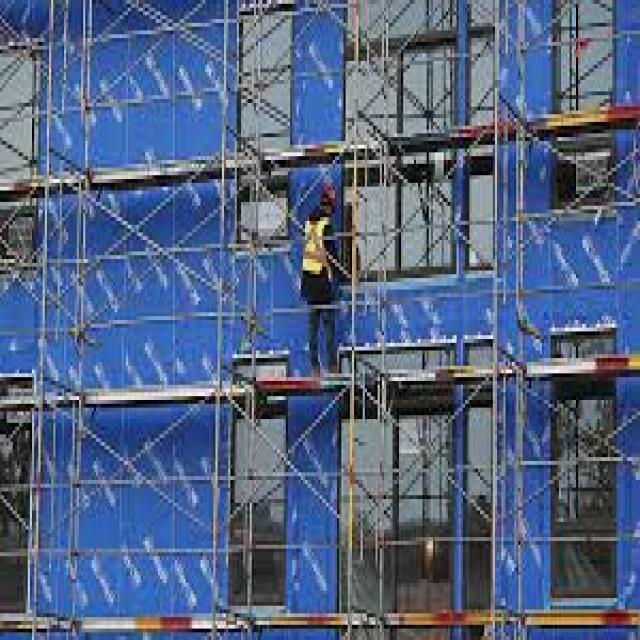reflective_jacket: (290, 209, 335, 285)
safety_helmet: (320, 171, 339, 201)
